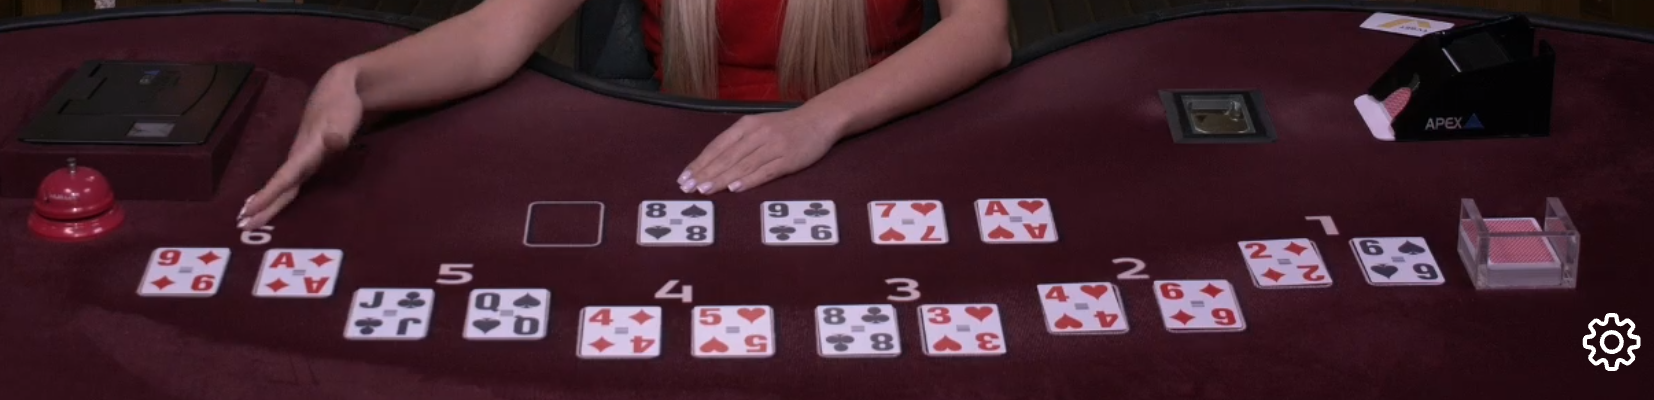2d: (1236, 232, 1336, 290)
3h: (913, 301, 1009, 358)
4d: (568, 302, 665, 364)
4h: (1027, 280, 1128, 335)
5h: (685, 302, 783, 358)
6d: (1149, 274, 1258, 335)
6s: (1344, 230, 1454, 291)
7h: (861, 196, 949, 249)
8c: (808, 298, 902, 360)
8s: (633, 191, 719, 251)
9c: (756, 196, 842, 252)
9d: (137, 237, 228, 301)
asd: (254, 246, 340, 301)
ash: (969, 194, 1062, 252)
jc: (342, 280, 432, 348)
qs: (459, 286, 553, 347)
